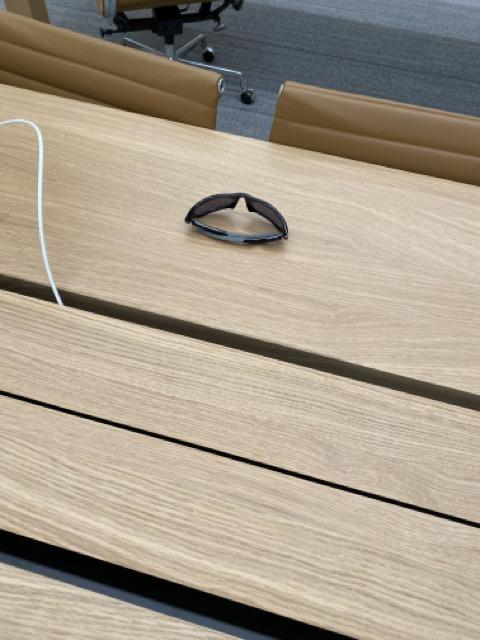Sunglasses: (186, 190, 290, 248)
